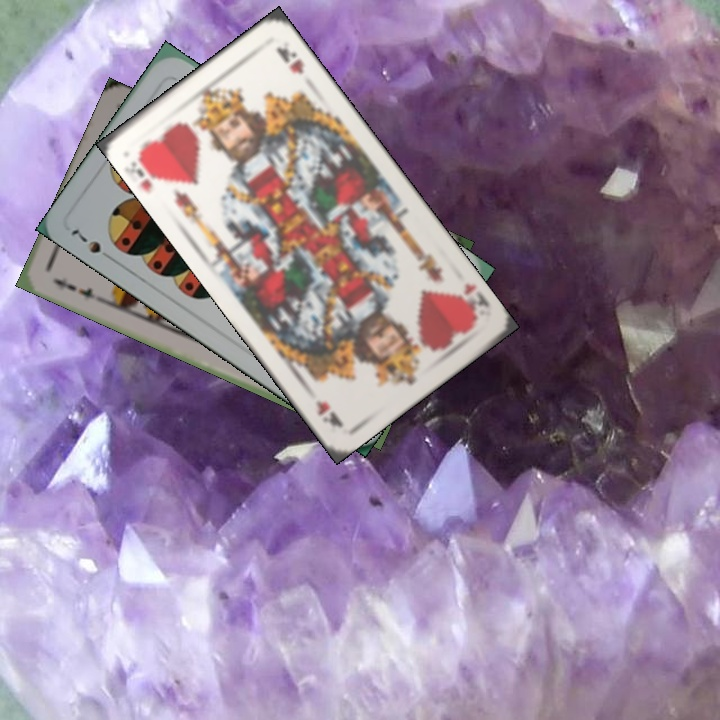E7: (48, 273, 101, 304)
HK: (450, 279, 493, 324), (123, 146, 169, 187)
S7: (67, 225, 117, 264)
